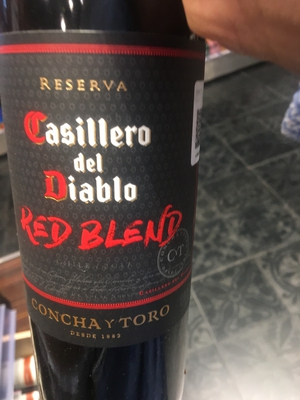casillero del diablo red blend: (5, 18, 215, 400)
